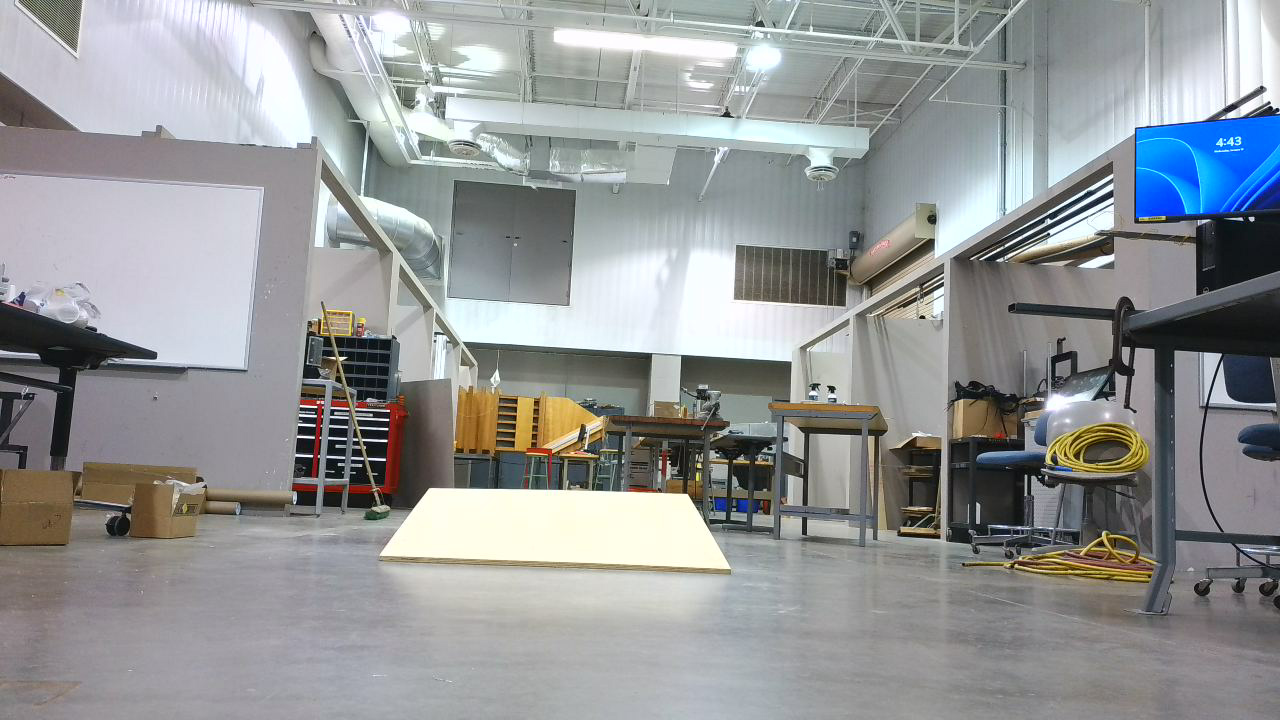ramp: (376, 488, 744, 584)
